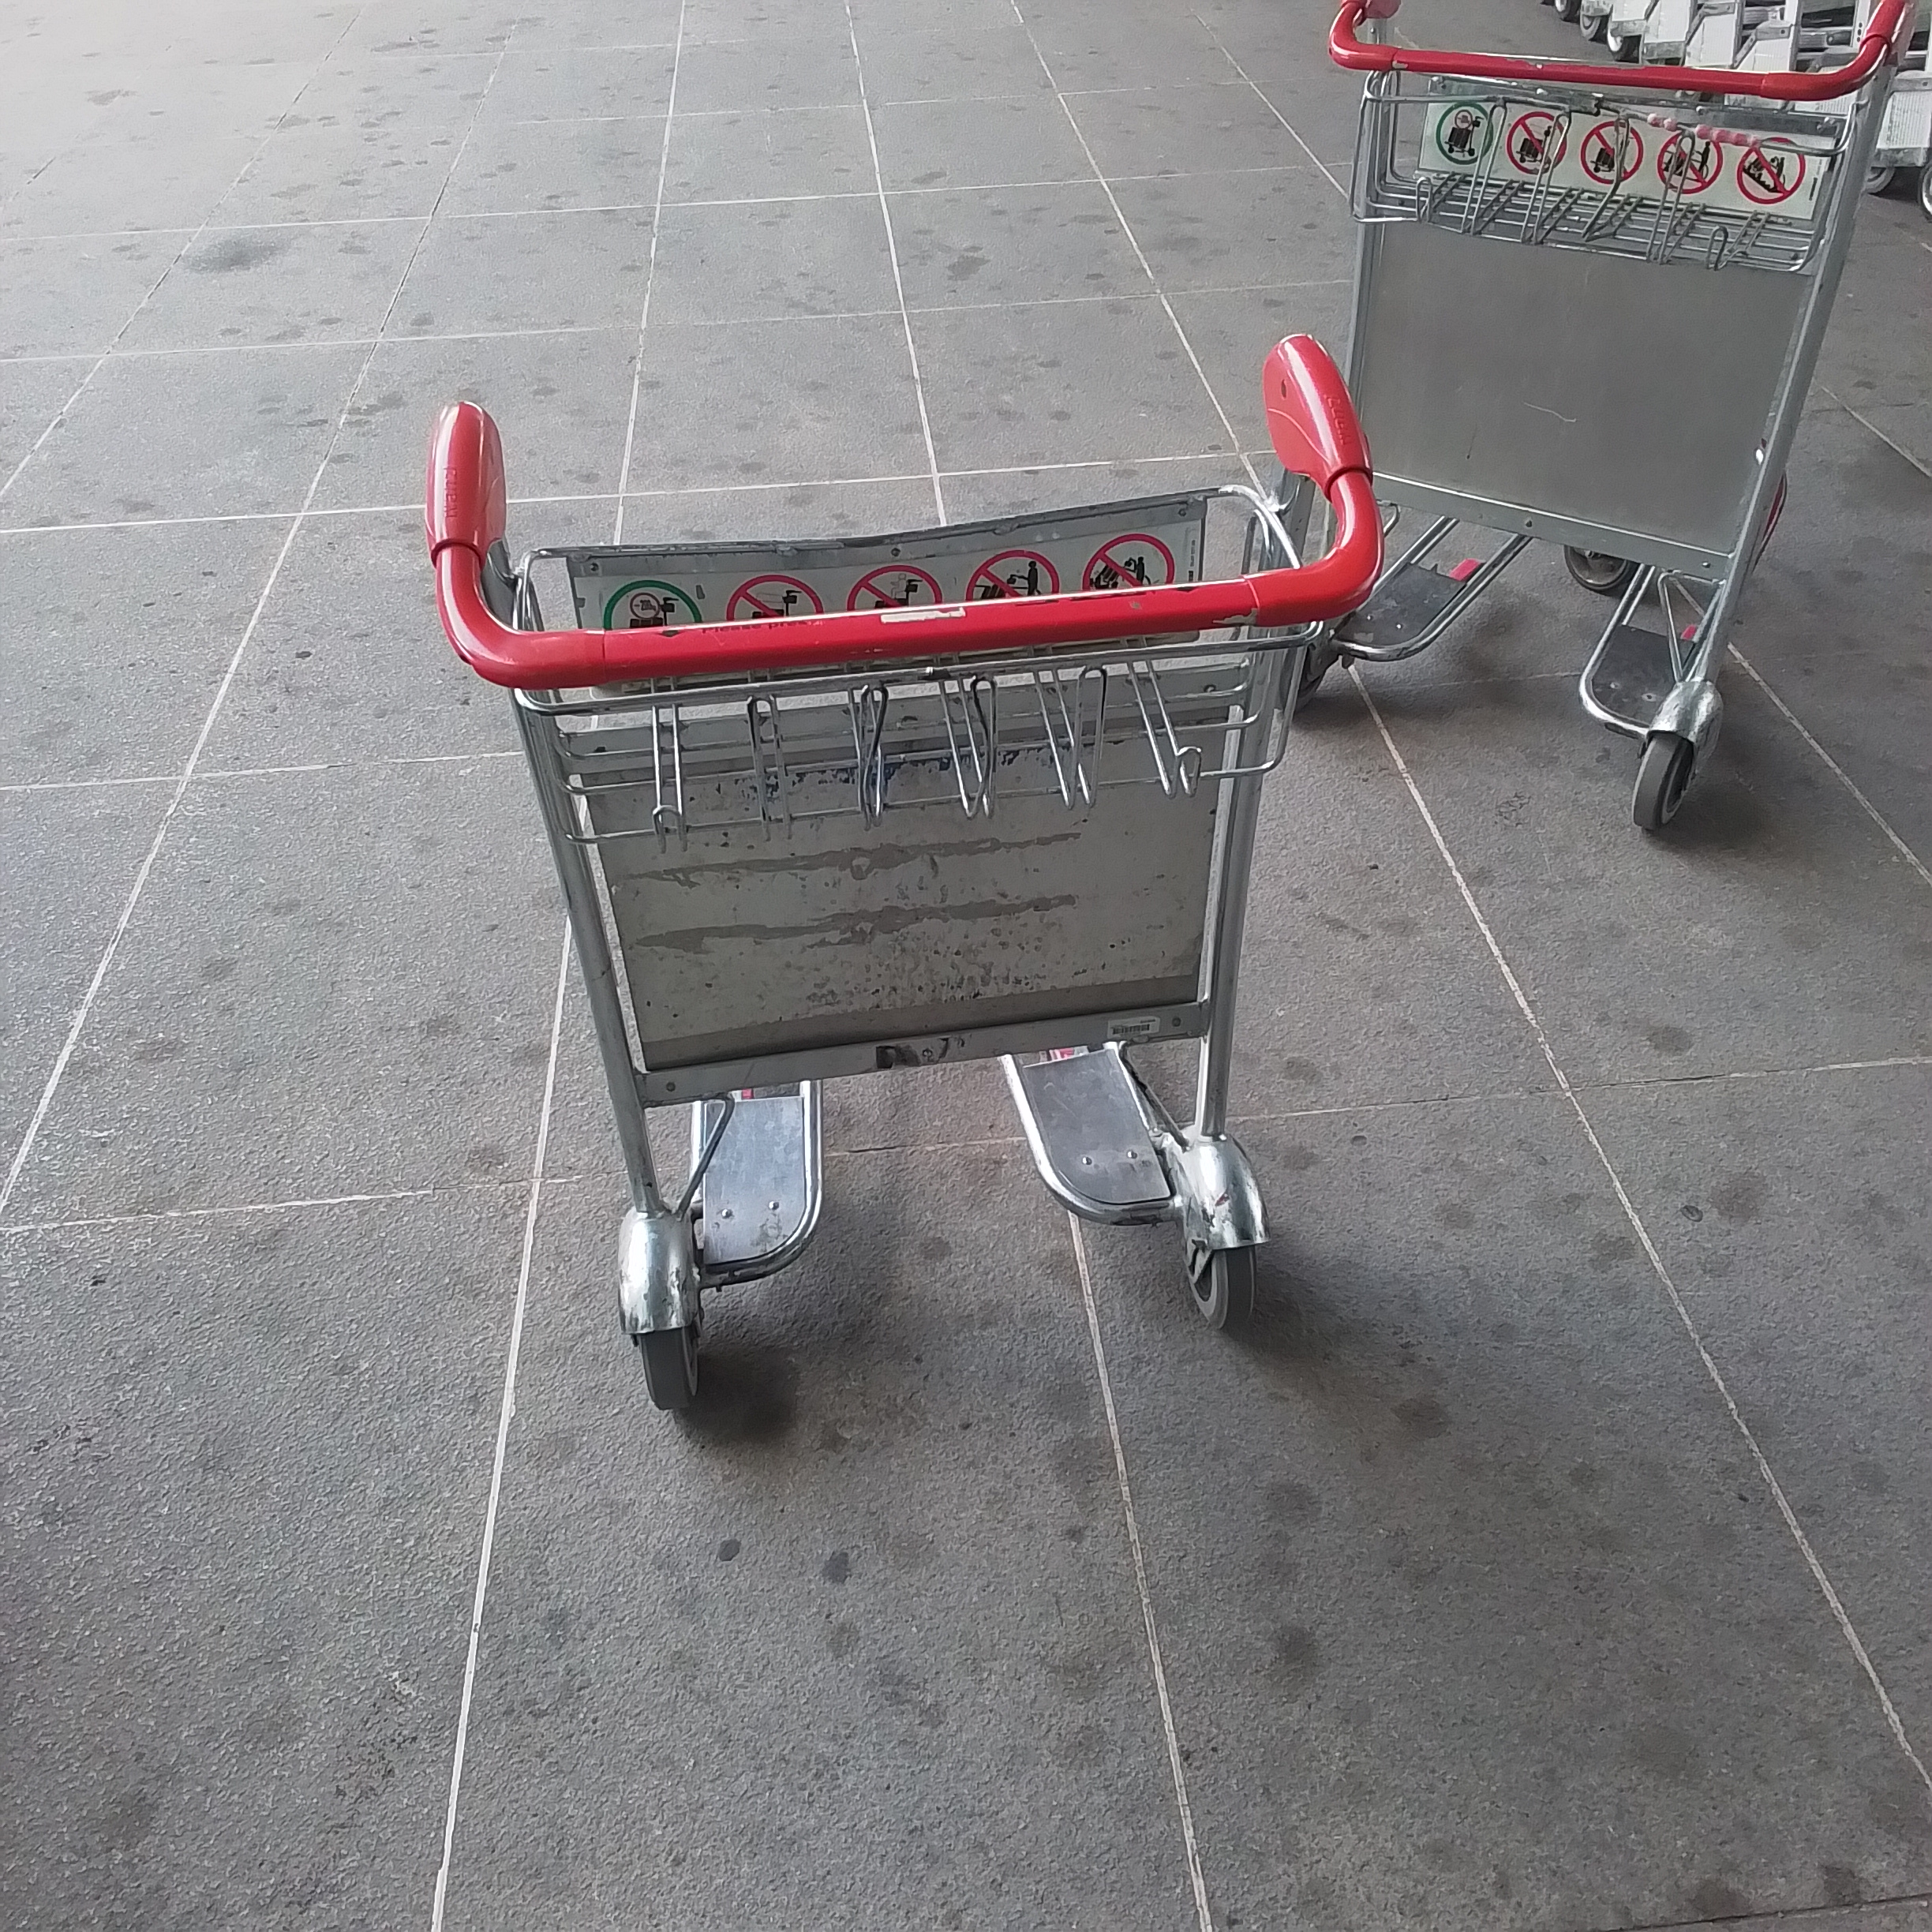airport-trolley: (419, 338, 1387, 1444), (1288, 0, 1902, 817)
